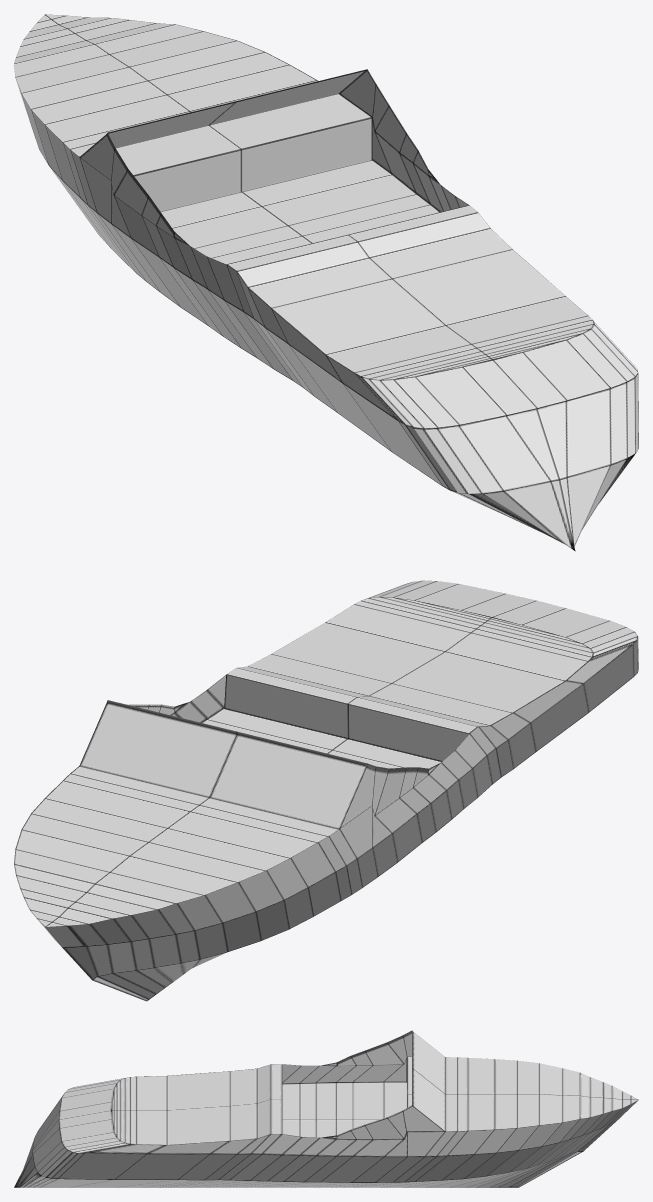
Rendered from speedboatmkii.obj.
3 views of the same model, one above another, from view 1: azimuth 30°, elevation 25°; view 2: azimuth 150°, elevation 25°; view 3: azimuth 270°, elevation 25° (orthographic). The views are drawn at different scales.
Parts seen in each view (by area): view 1: Cube; view 2: Cube; view 3: Cube.
Boxes of the visible parts, x1,y1,x2,y2 form: Cube: (14,14,638,551); Cube: (14,580,638,1001); Cube: (14,1030,638,1187).
Size of the model in its own units: 3.21 by 2.39 by 11.29.
